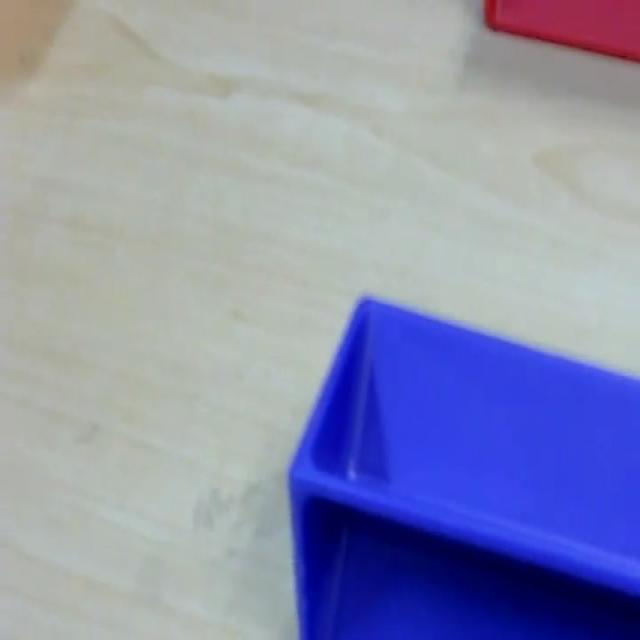blue_block: (286, 291, 638, 636)
